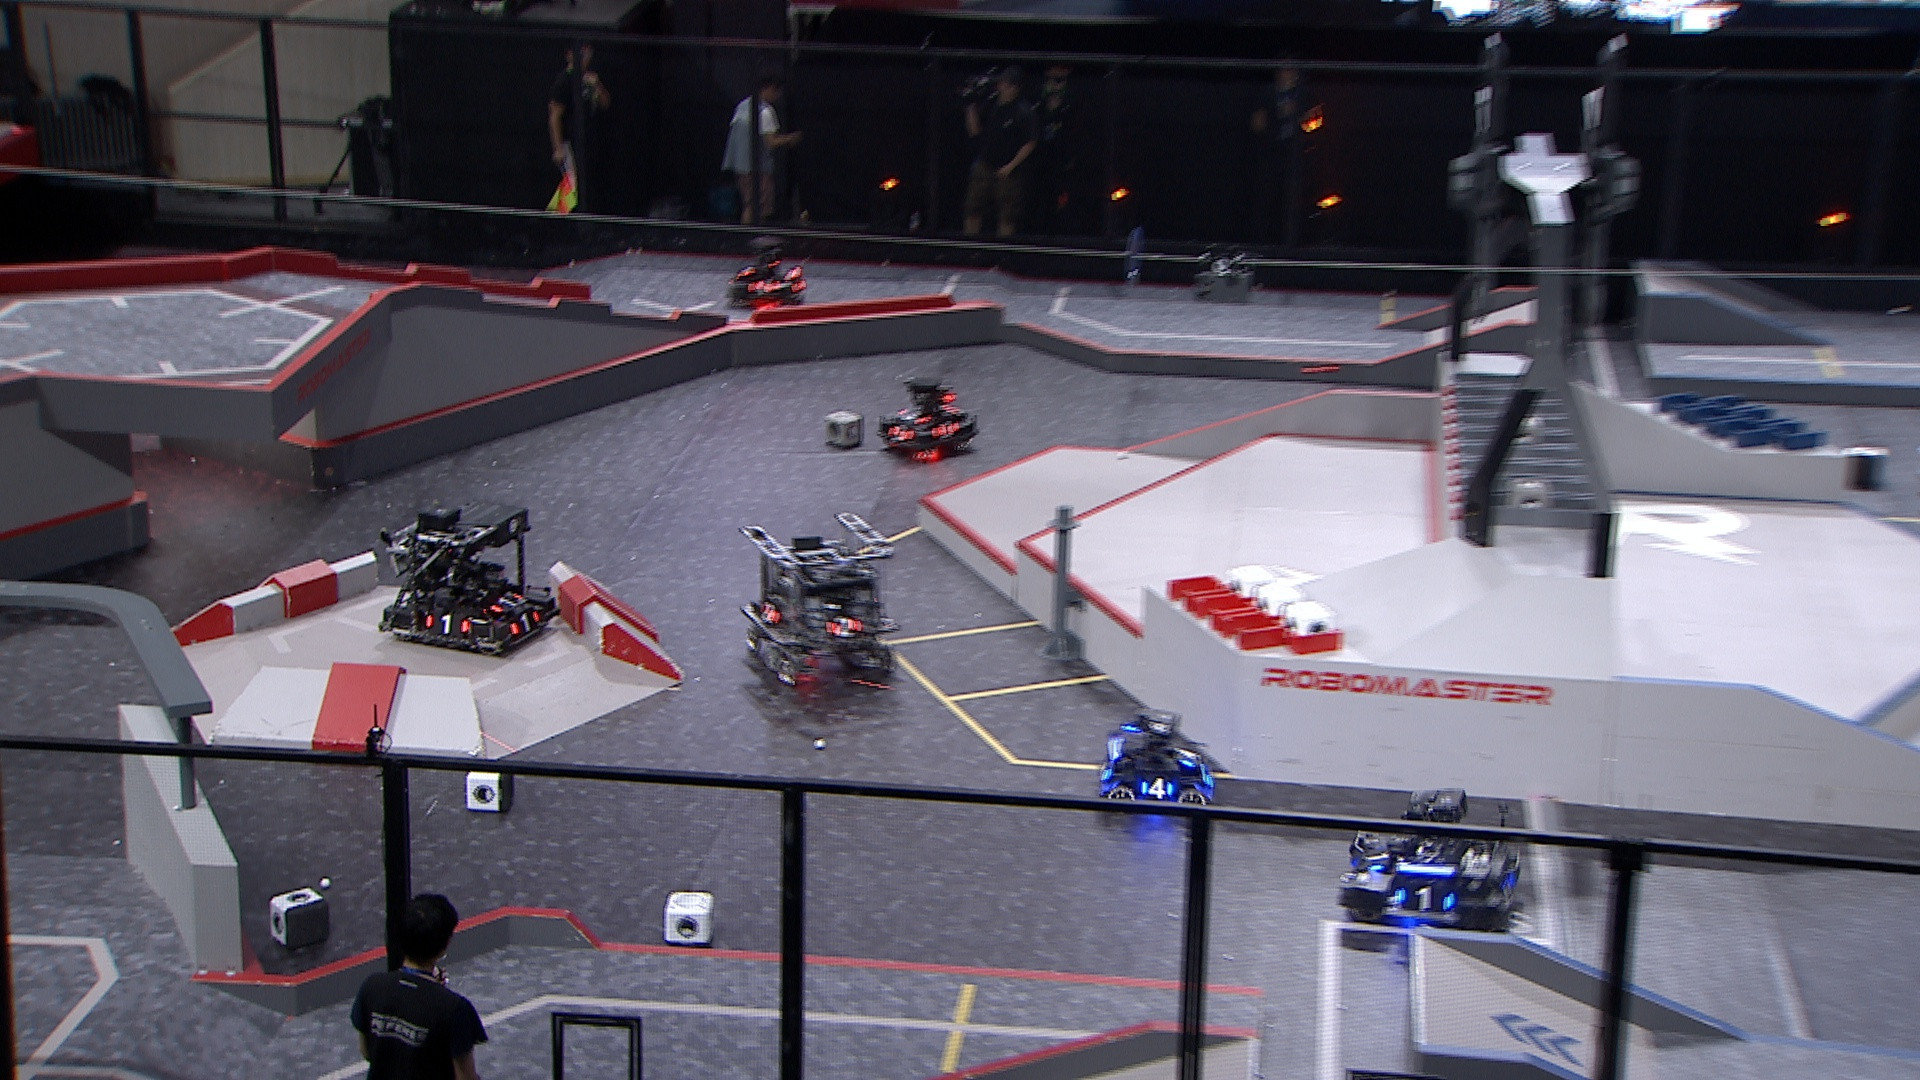armor: (1400, 887, 1451, 915), (427, 615, 468, 636), (493, 589, 524, 617), (1362, 843, 1390, 872), (513, 612, 542, 638), (1135, 779, 1174, 798), (825, 616, 858, 637), (895, 404, 924, 422), (1174, 742, 1197, 764), (889, 425, 913, 443), (750, 278, 774, 294), (757, 603, 775, 622), (793, 272, 808, 290), (938, 418, 957, 433), (1098, 761, 1112, 779), (740, 264, 756, 276)
car: (375, 496, 564, 654), (736, 510, 902, 687), (1333, 787, 1522, 938), (1093, 709, 1215, 818), (874, 372, 977, 456), (723, 239, 814, 313)
